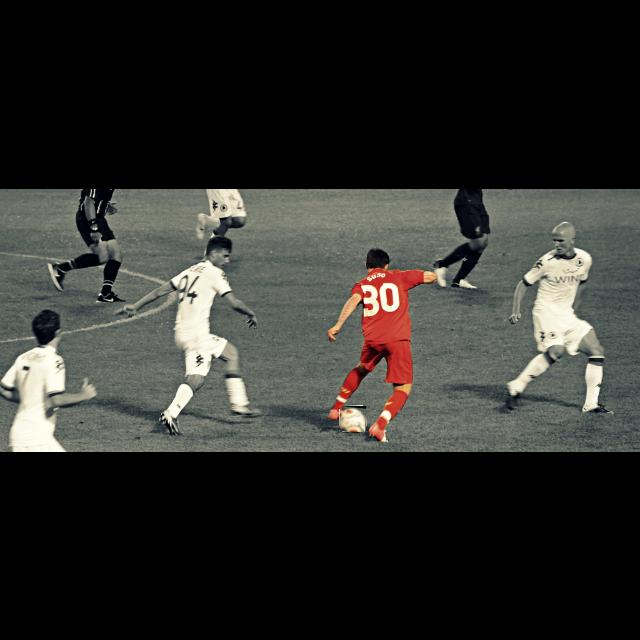Football: (340, 406, 366, 432)
